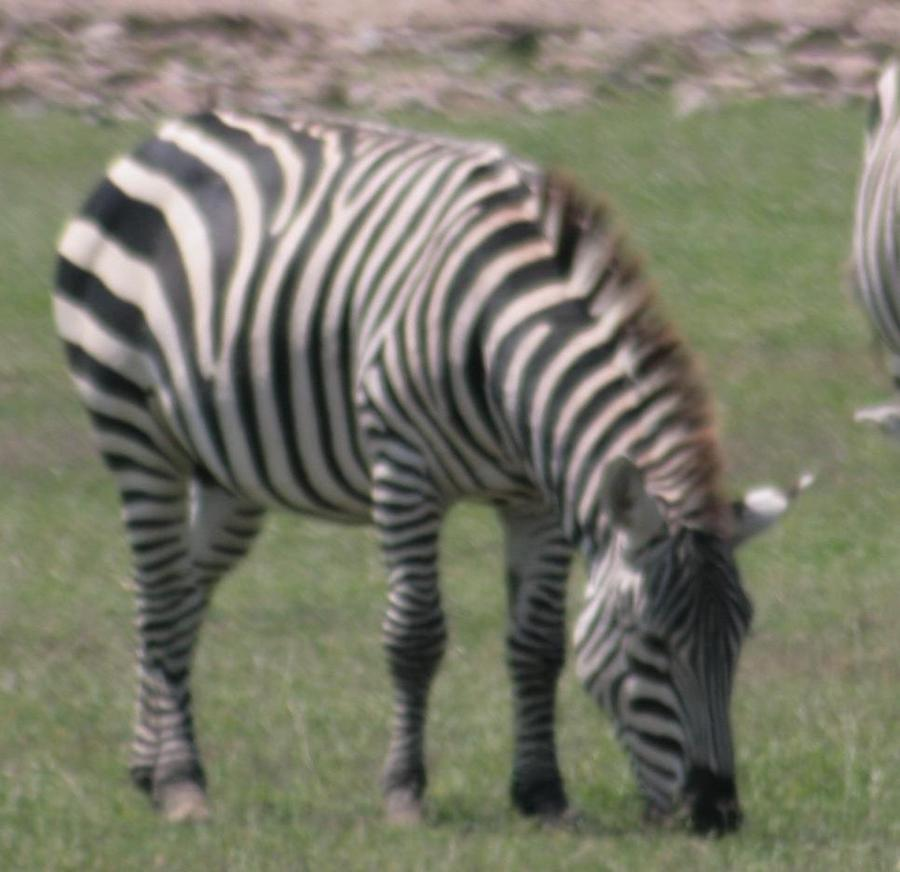zebra_plains: (5, 93, 576, 554)
